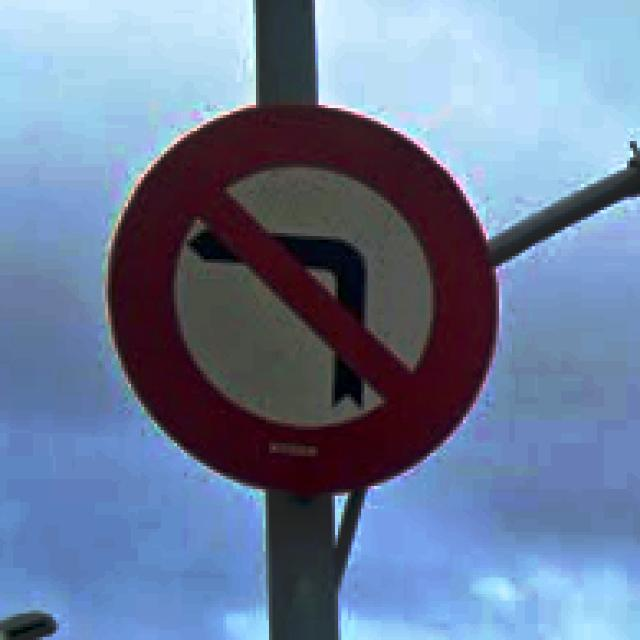noturnleft: (105, 98, 499, 496)
